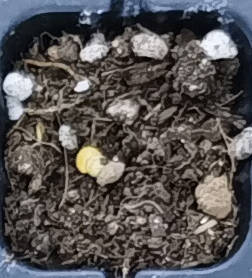pepper seed: (28, 68, 145, 245), (22, 58, 128, 233)
